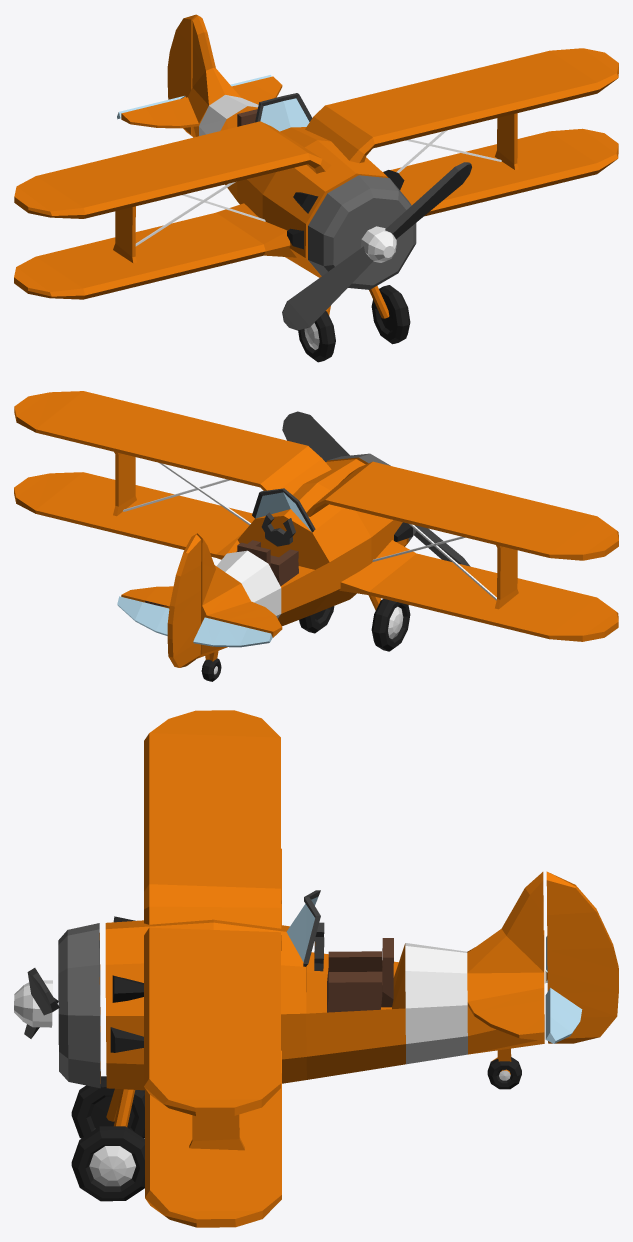
The model's file is PUSHLIN_Plane.glb.
The picture shows the model from 3 angles, top to bottom: view 1: azimuth 30°, elevation 25°; view 2: azimuth 150°, elevation 25°; view 3: azimuth 270°, elevation 25°; orthographic projection. The views are drawn at different scales.
Visible parts, largest first — view 1: airplne body, propellor, tail; view 2: airplne body, tail, propellor, right rudder, left rudder; view 3: airplne body, tail, propellor, left rudder.
Part boxes in pixels (box(x1,y1,x2,y2)): airplne body: box(14, 15, 618, 362); propellor: box(282, 162, 471, 330); tail: box(167, 14, 200, 136); airplne body: box(14, 391, 618, 681); tail: box(167, 534, 201, 667); propellor: box(282, 411, 470, 566); right rudder: box(193, 617, 272, 647); left rudder: box(117, 596, 169, 635); airplne body: box(58, 710, 547, 1227); tail: box(546, 871, 618, 1043); propellor: box(14, 968, 59, 1038); left rudder: box(545, 987, 582, 1043).
Bounding box in the file's own units: 3.78 × 1.34 × 2.43.
Materials: 5 (5 with a texture image).
